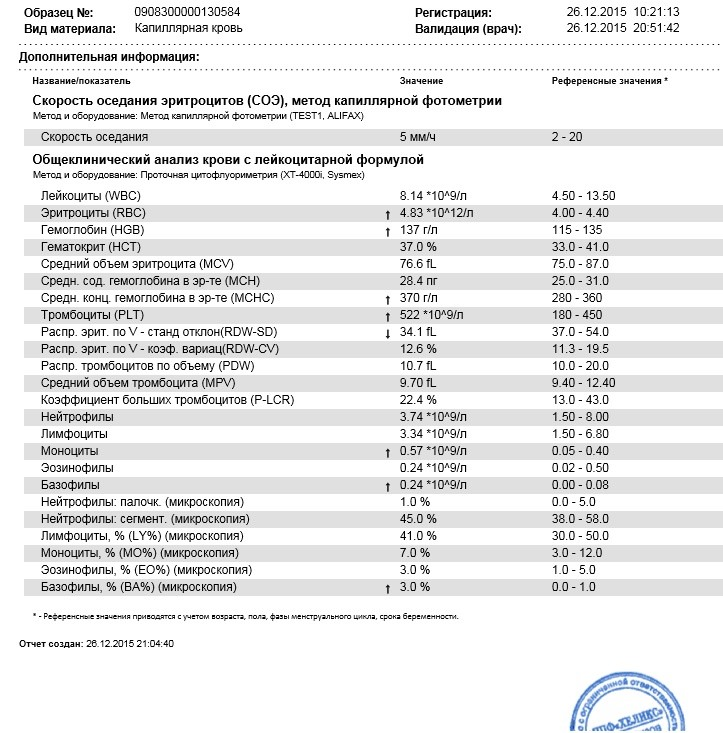column: (40, 189, 295, 593), (399, 189, 473, 593), (551, 189, 616, 593), (39, 130, 149, 142), (551, 75, 662, 86), (32, 75, 131, 86), (399, 75, 443, 86), (399, 130, 436, 142), (551, 130, 582, 142)
